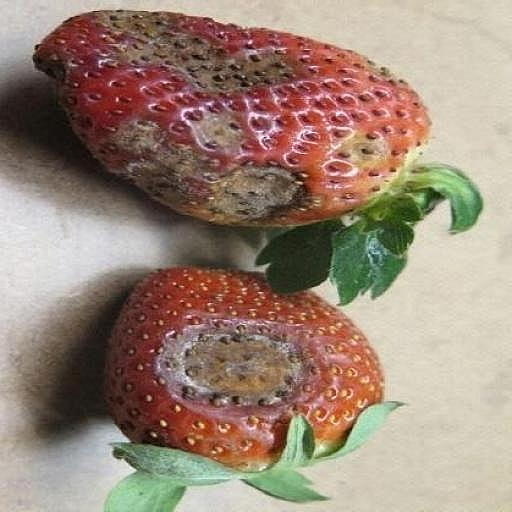Anthracnose Fruit Rot: (187, 285, 481, 503), (182, 92, 361, 193)
